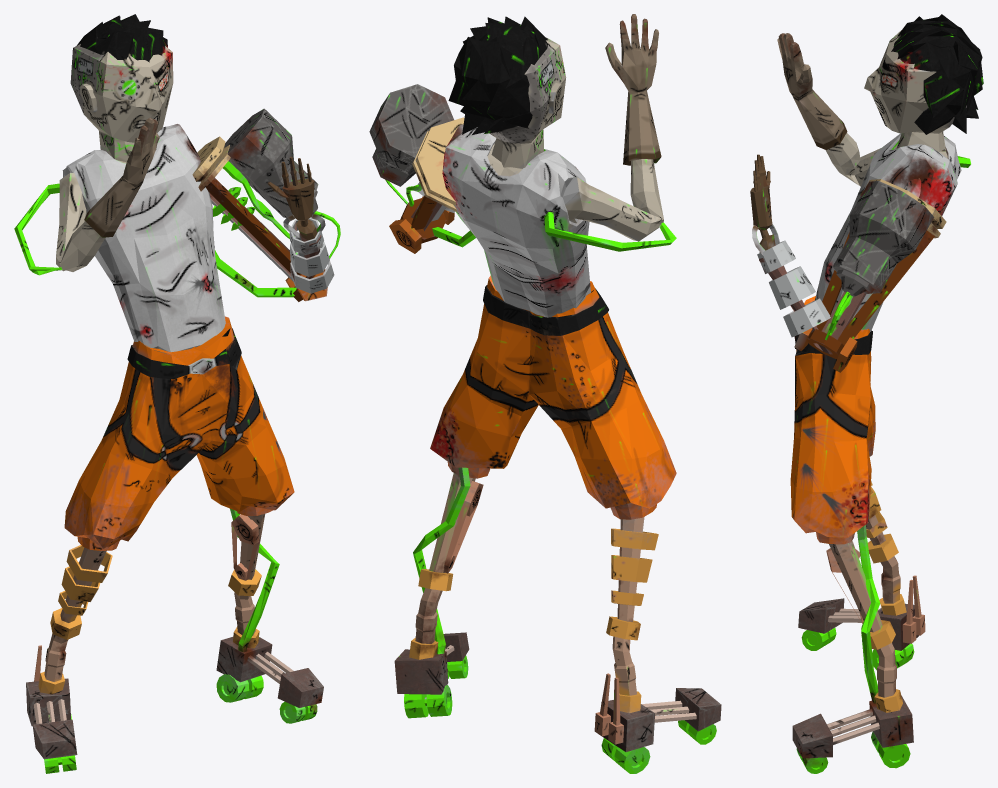
The model's file is CyborgFINALAnimation_000021.obj.
3 views of the same model, side by side, from view 1: azimuth 30°, elevation 25°; view 2: azimuth 150°, elevation 25°; view 3: azimuth 270°, elevation 25° (orthographic). The views are drawn at different scales.
Visible parts, largest first — view 1: CyborgMesh_Cube.002; view 2: CyborgMesh_Cube.002; view 3: CyborgMesh_Cube.002.
Part boxes in pixels (left/top/right/bottom): CyborgMesh_Cube.002: left=14, top=14, right=340, bottom=773; CyborgMesh_Cube.002: left=369, top=14, right=721, bottom=773; CyborgMesh_Cube.002: left=750, top=14, right=983, bottom=773.
Bounding box in the file's own units: 4.4 × 9.39 × 2.87.
